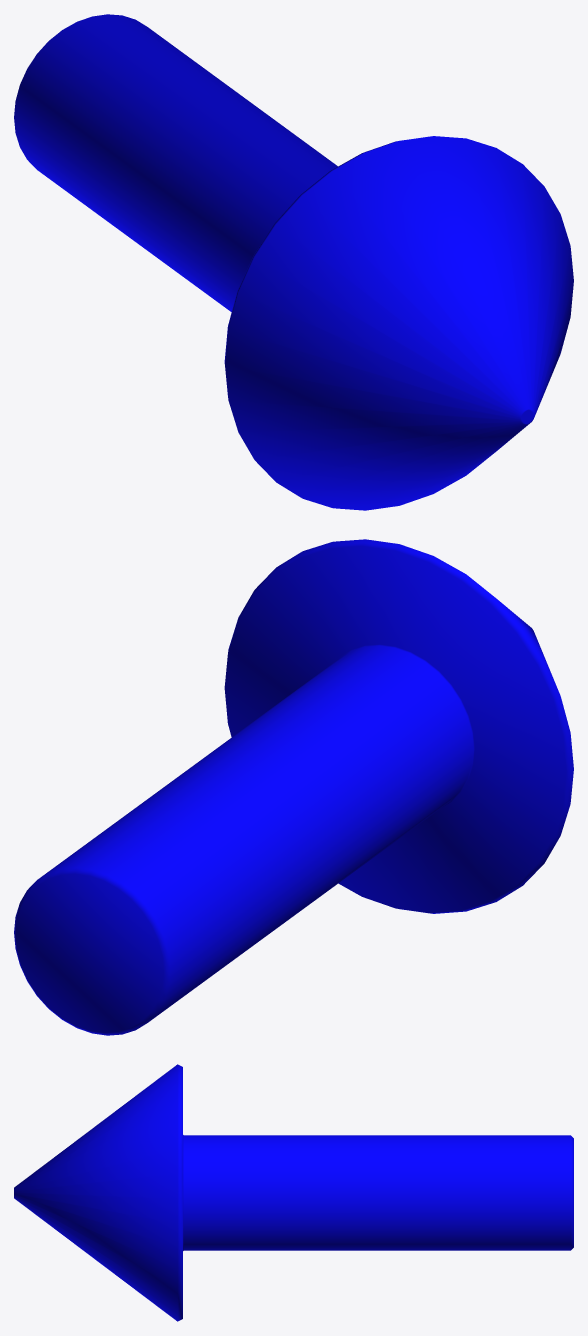
Rendered from Forward-Vector.fbx.
The picture shows the model from 3 angles, top to bottom: view 1: azimuth 30°, elevation 25°; view 2: azimuth 150°, elevation 25°; view 3: azimuth 270°, elevation 25°; orthographic projection. The views are drawn at different scales.
Visible parts, largest first — view 1: Cone; view 2: Cone; view 3: Cone.
Part boxes in pixels (x1,y1,x2,y2): Cone: (14, 14, 573, 510); Cone: (14, 539, 573, 1035); Cone: (14, 1064, 573, 1321).
Bounding box in the file's own units: 147 × 147 × 319.
